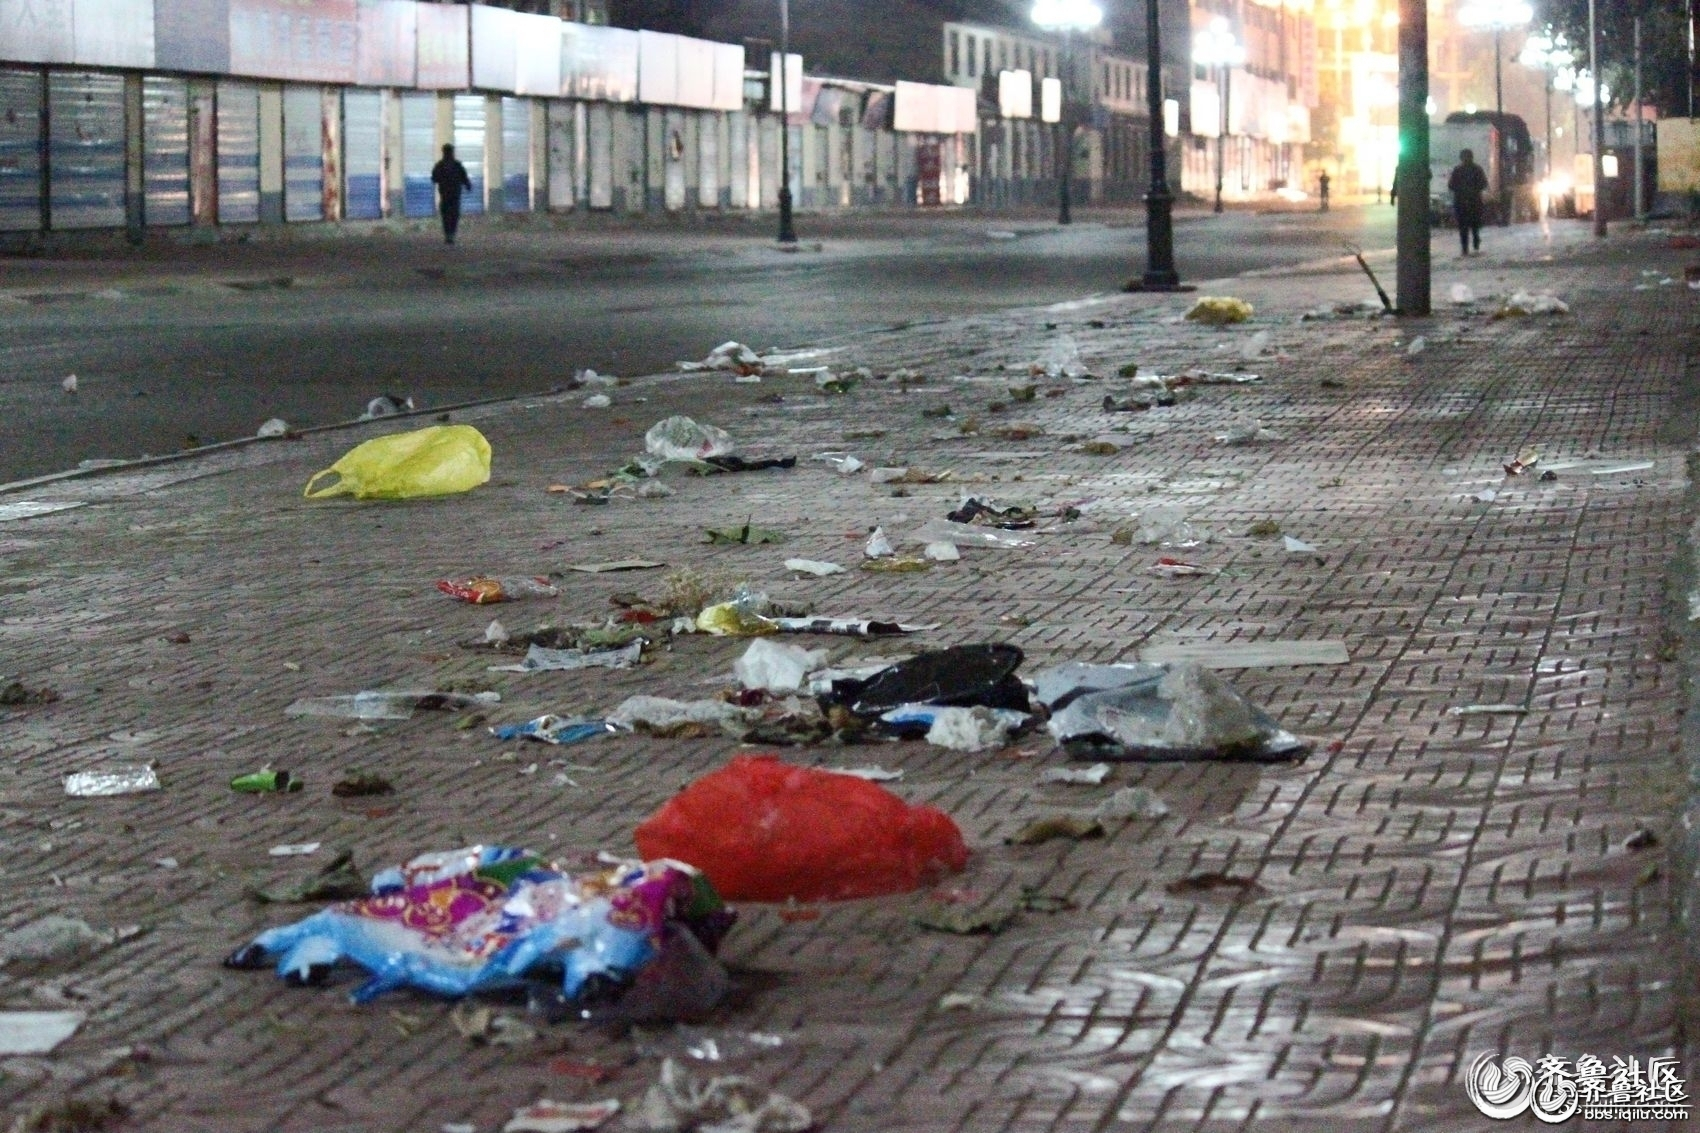garbage: (231, 835, 780, 1044), (580, 632, 1327, 761), (612, 740, 1024, 918), (992, 314, 1327, 469), (605, 505, 904, 644), (947, 479, 1333, 573), (447, 1046, 853, 1133), (288, 665, 537, 797), (265, 413, 518, 516), (627, 413, 806, 494), (1440, 252, 1601, 324), (694, 333, 849, 400), (434, 558, 576, 620), (63, 756, 185, 812)
